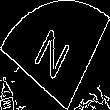N_SW: (33, 23, 77, 87)
